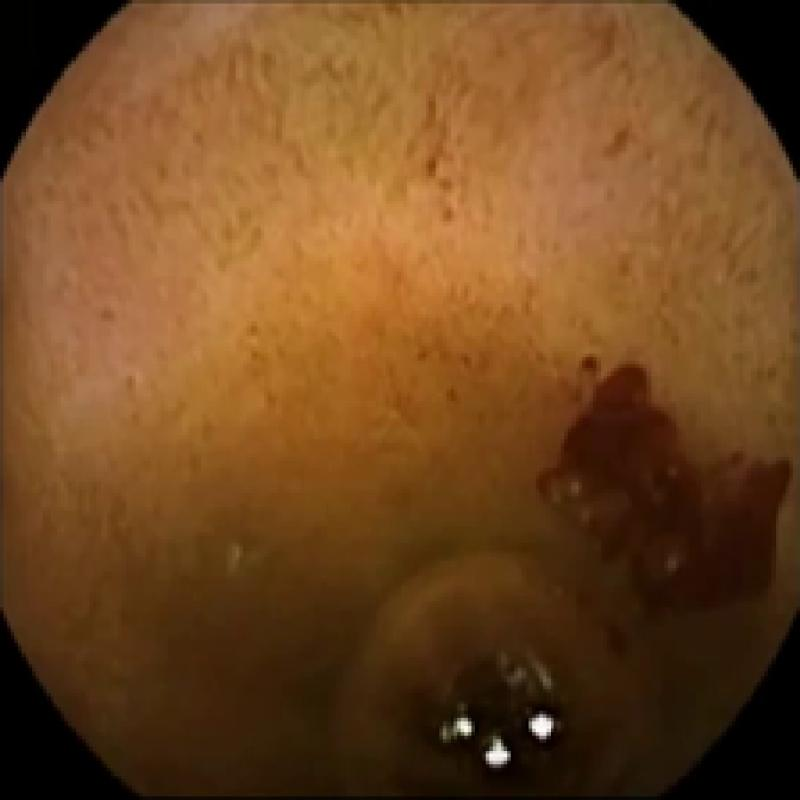bleeding: (522, 350, 796, 619)
